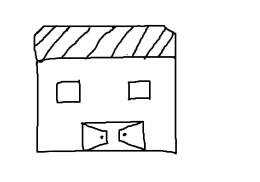door: (82, 121, 145, 152)
open_window: (56, 81, 80, 104), (127, 79, 151, 101)
roof: (31, 21, 183, 63)
wall: (33, 51, 180, 158)
